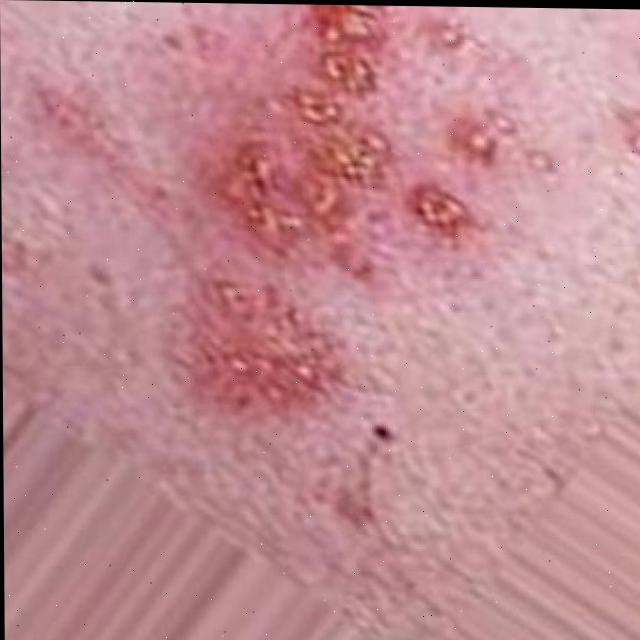Shingles: (245, 4, 488, 243), (193, 287, 344, 391)
